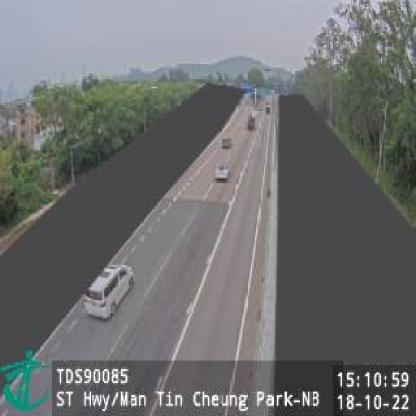Car: (84, 264, 134, 319), (214, 163, 230, 180), (222, 136, 233, 148)
